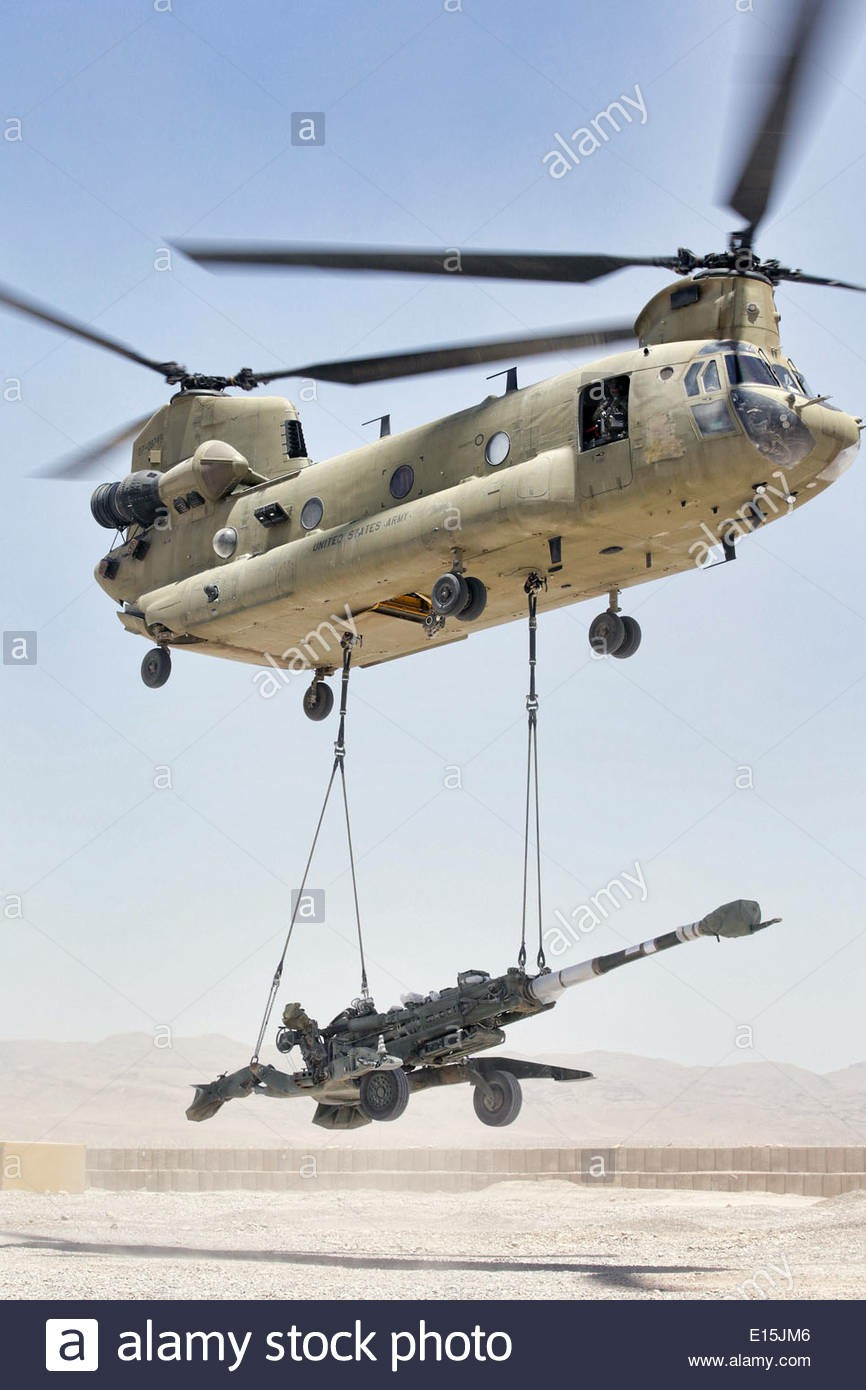chinook: (11, 227, 866, 711)
